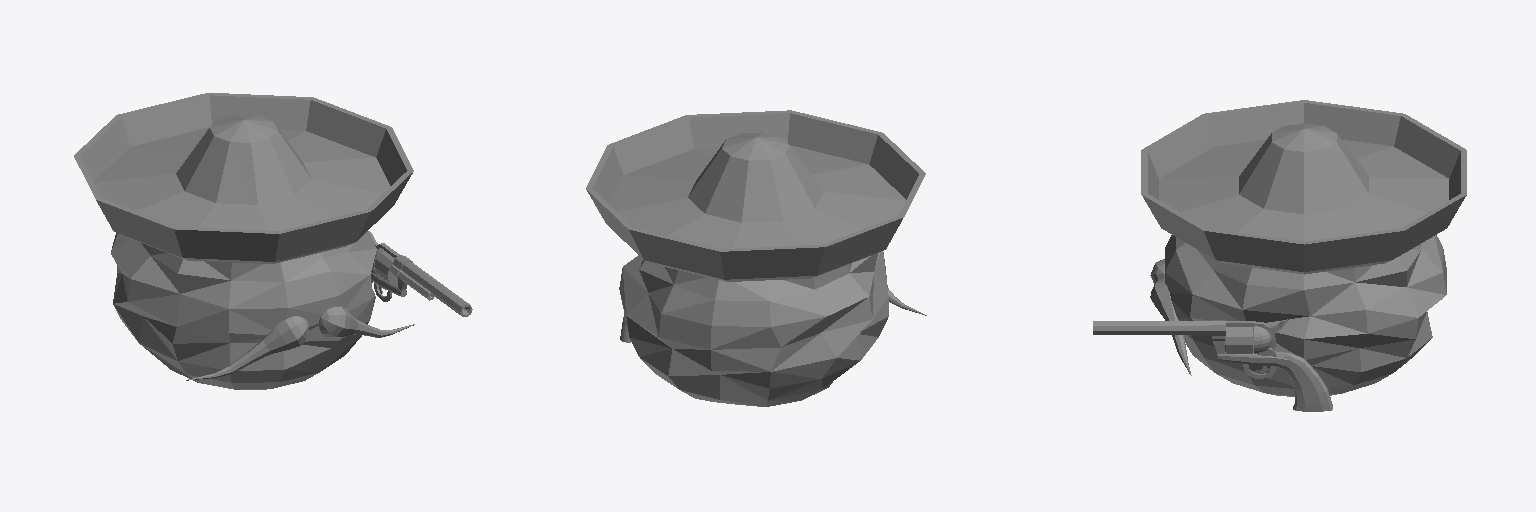
Rendered from tumbleweed.obj.
The picture shows the model from 3 angles: view 1: azimuth 30°, elevation 25°; view 2: azimuth 150°, elevation 25°; view 3: azimuth 270°, elevation 25°; orthographic projection.
Parts seen in each view (by area): view 1: Tumbleweed01; view 2: Tumbleweed01; view 3: Tumbleweed01.
Part boxes in pixels (left/top/right/bottom): Tumbleweed01: left=74, top=93, right=472, bottom=389; Tumbleweed01: left=586, top=110, right=926, bottom=406; Tumbleweed01: left=1093, top=100, right=1466, bottom=411.
Size of the model in its own units: 2 by 1.64 by 2.19.